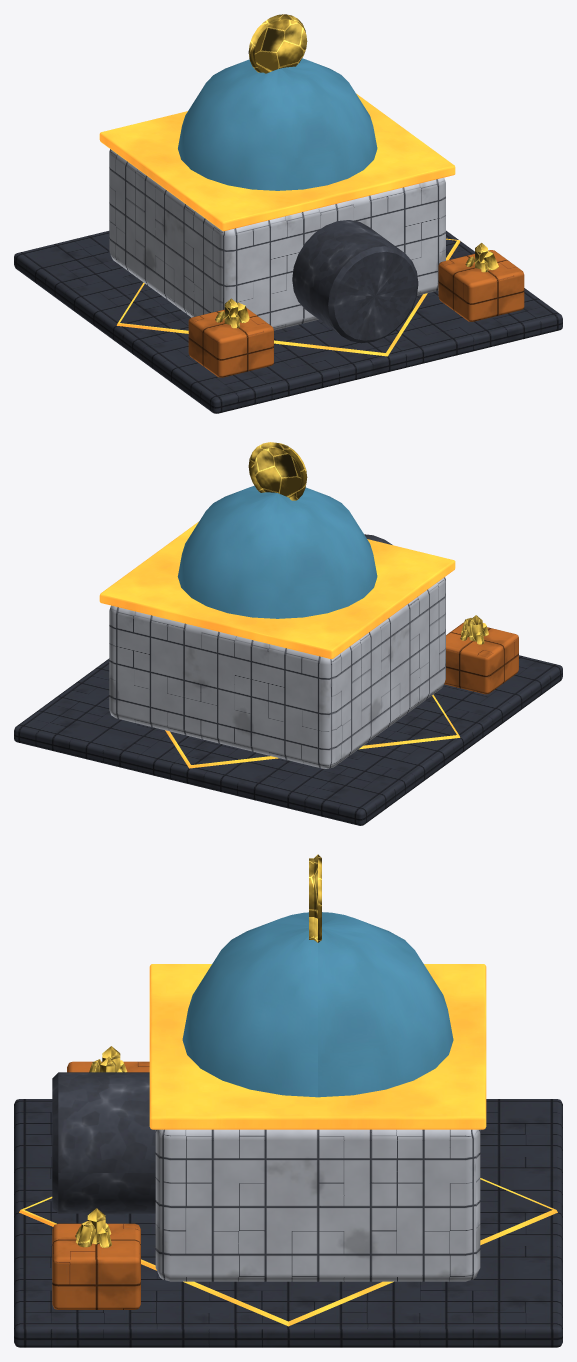
File: sf_treasury.glb
3 views of the same model, one above another, from view 1: azimuth 30°, elevation 25°; view 2: azimuth 150°, elevation 25°; view 3: azimuth 270°, elevation 25° (orthographic). The views are drawn at different scales.
Parts seen in each view (by area): view 1: Base, Holo; view 2: Base, Holo; view 3: Base, Holo.
Part boxes in pixels (left/top/right/bottom): Base: left=14, top=58, right=562, bottom=413; Holo: left=248, top=14, right=307, bottom=73; Base: left=14, top=485, right=562, bottom=825; Holo: left=248, top=442, right=307, bottom=500; Base: left=14, top=912, right=562, bottom=1347; Holo: left=309, top=854, right=321, bottom=942.
Size of the model in its own units: 1.86 by 1.4 by 1.86.
Materials: 7 (7 with a texture image).
